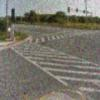crosswalks: (32, 30, 99, 43)
